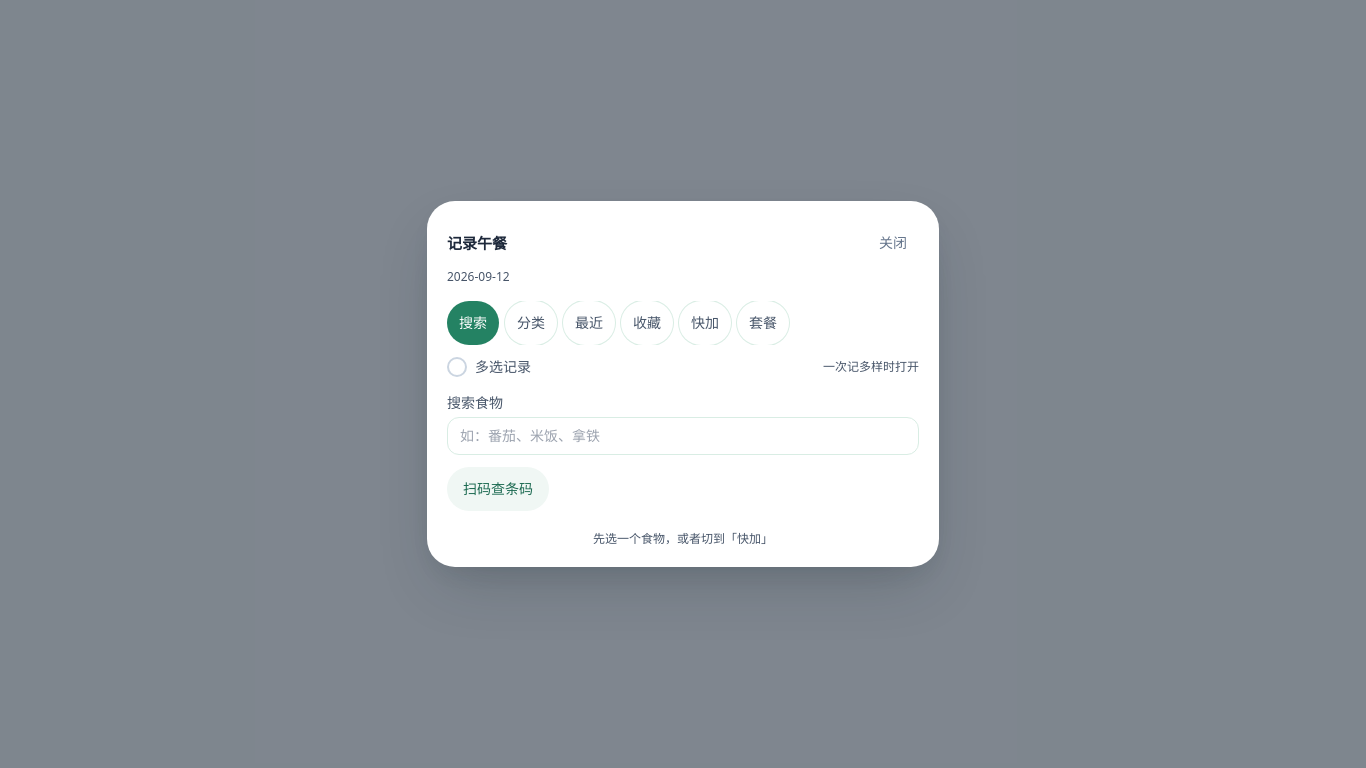
Test: D-2 重复记录温和提示 › ★ 同日同餐已记过同一食物 → 出现一句温和觉察
Click the tab "最近". click: (589, 323)
box: [563,301,615,345]
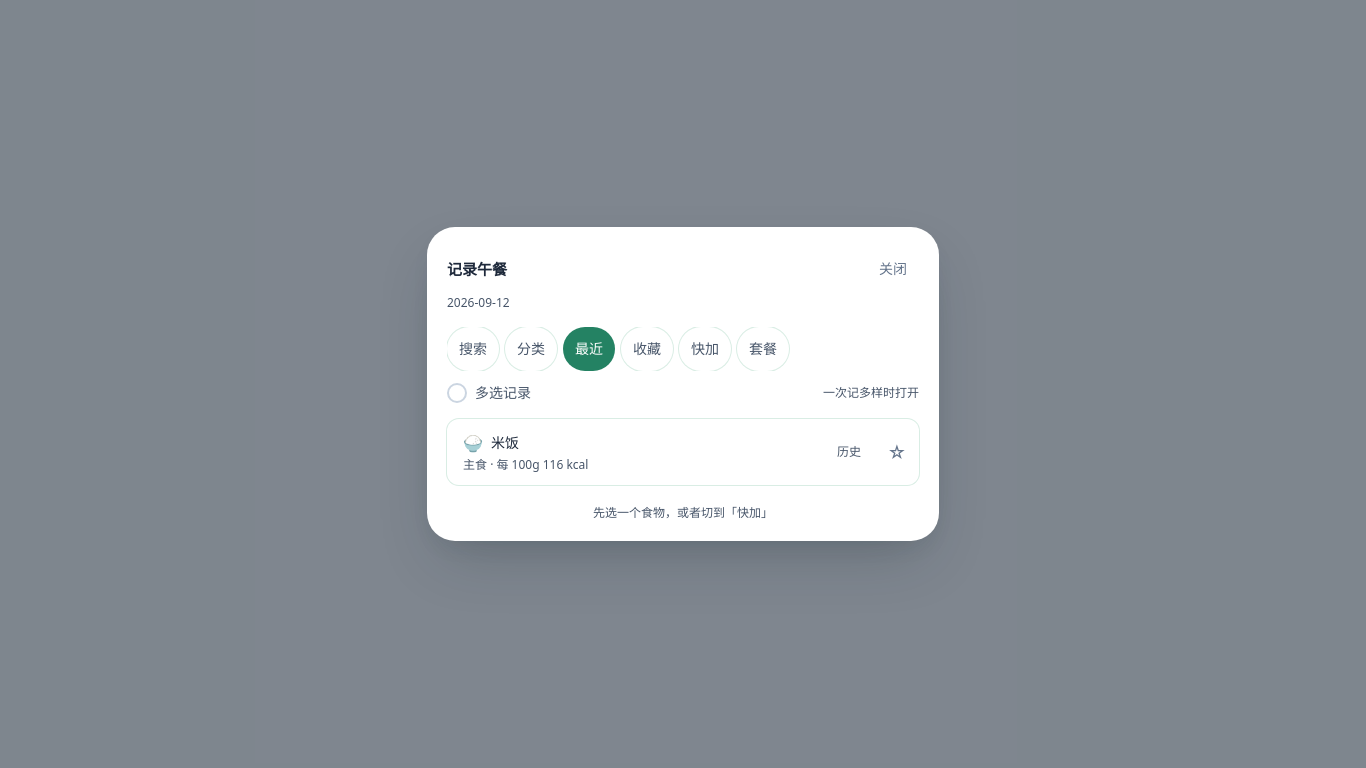
Click the button "🍚 米饭 主食 · 每 100g 116 kcal". click: (515, 464)
box: [447,419,823,485]
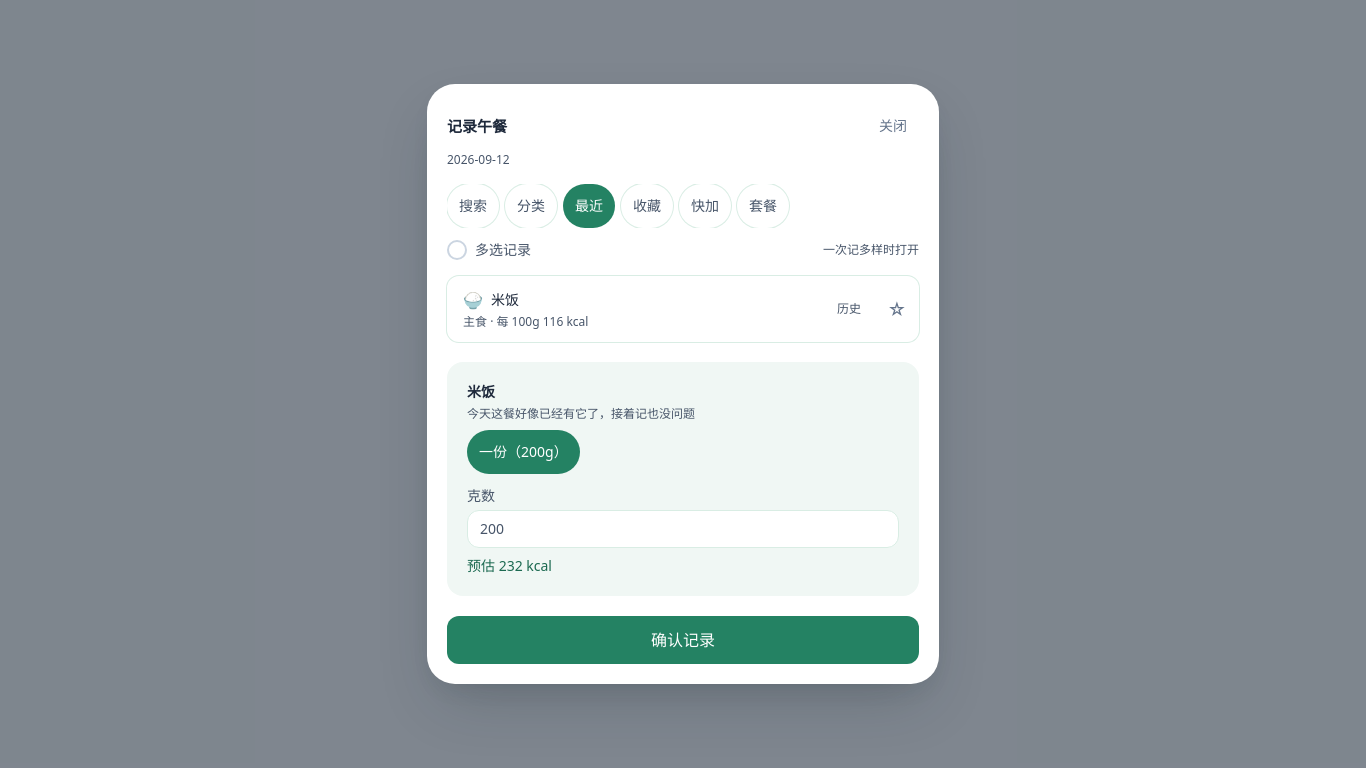
Expected: the field labelled "克数" is not empty, [467,510,899,548]
Expected: the text with test id "same-meal-hint" reads "今天这餐好像已经有它了，接着记也没问题", [467,405,695,422]
